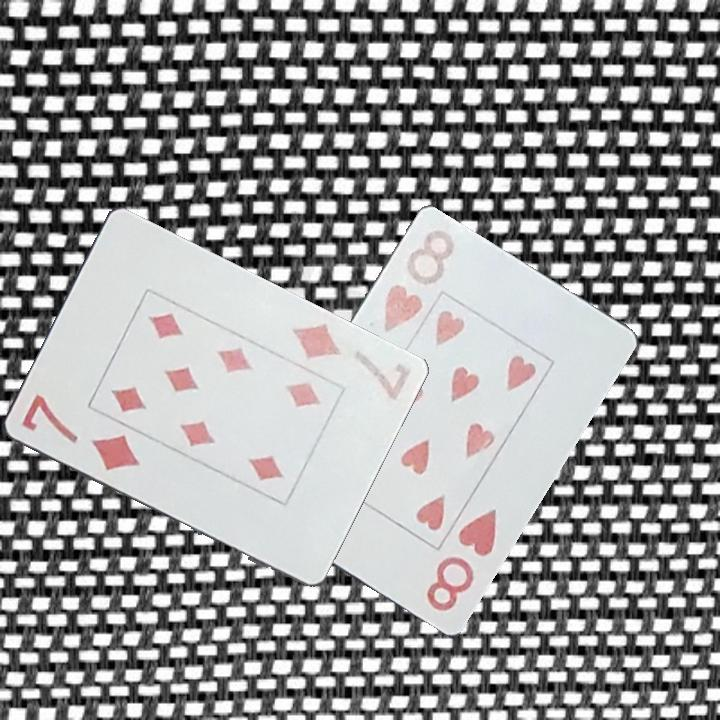7d: (287, 320, 413, 404), (17, 391, 143, 474)
8h: (422, 505, 500, 616), (380, 226, 458, 336)
